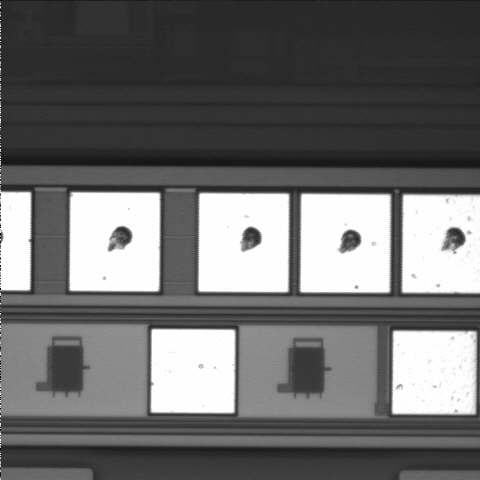pad: (199, 193, 289, 292), (70, 193, 160, 291), (301, 194, 390, 292), (151, 329, 235, 413), (392, 331, 476, 414)
